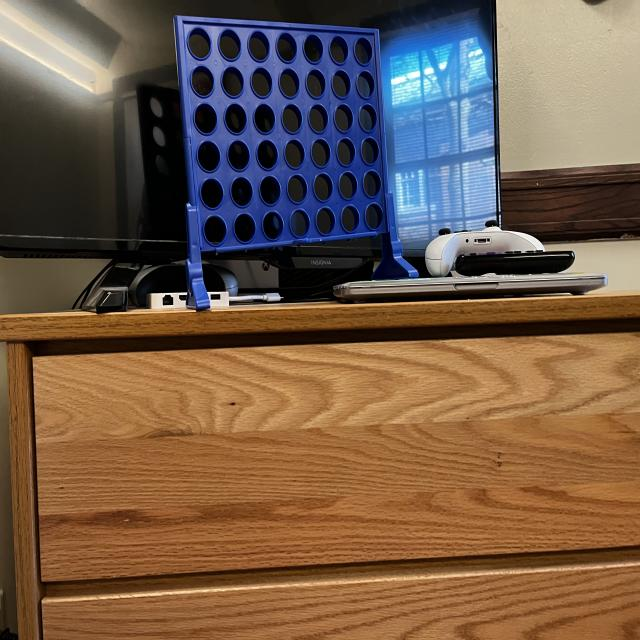Board: (175, 16, 399, 251)
